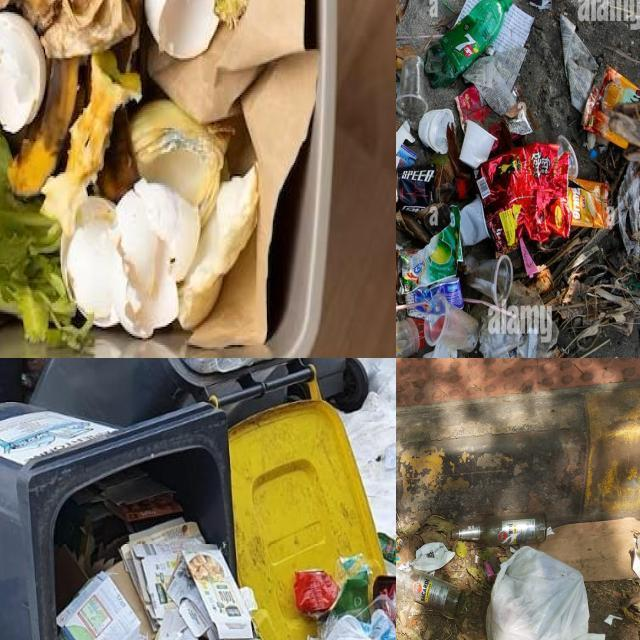Disposable: (424, 294, 479, 351), (464, 255, 514, 306), (396, 56, 428, 125), (418, 109, 454, 154), (396, 319, 419, 358)
Garbage: (396, 0, 640, 358), (55, 467, 266, 640), (396, 514, 640, 640), (378, 535, 396, 570)
Glass_bottle: (396, 568, 464, 618), (452, 512, 548, 546)
Plastic_Bag: (486, 546, 604, 640), (409, 542, 455, 572), (396, 584, 412, 626), (306, 618, 336, 640)
Plastic_bottle: (425, 0, 512, 88), (378, 533, 396, 566)
Plastic_wraper: (476, 143, 571, 250), (401, 207, 463, 293), (581, 68, 640, 147), (332, 553, 371, 615), (568, 178, 614, 228), (293, 569, 340, 614), (397, 145, 418, 167), (485, 562, 497, 584), (396, 556, 401, 566)
Tetrapack: (396, 532, 403, 550)
